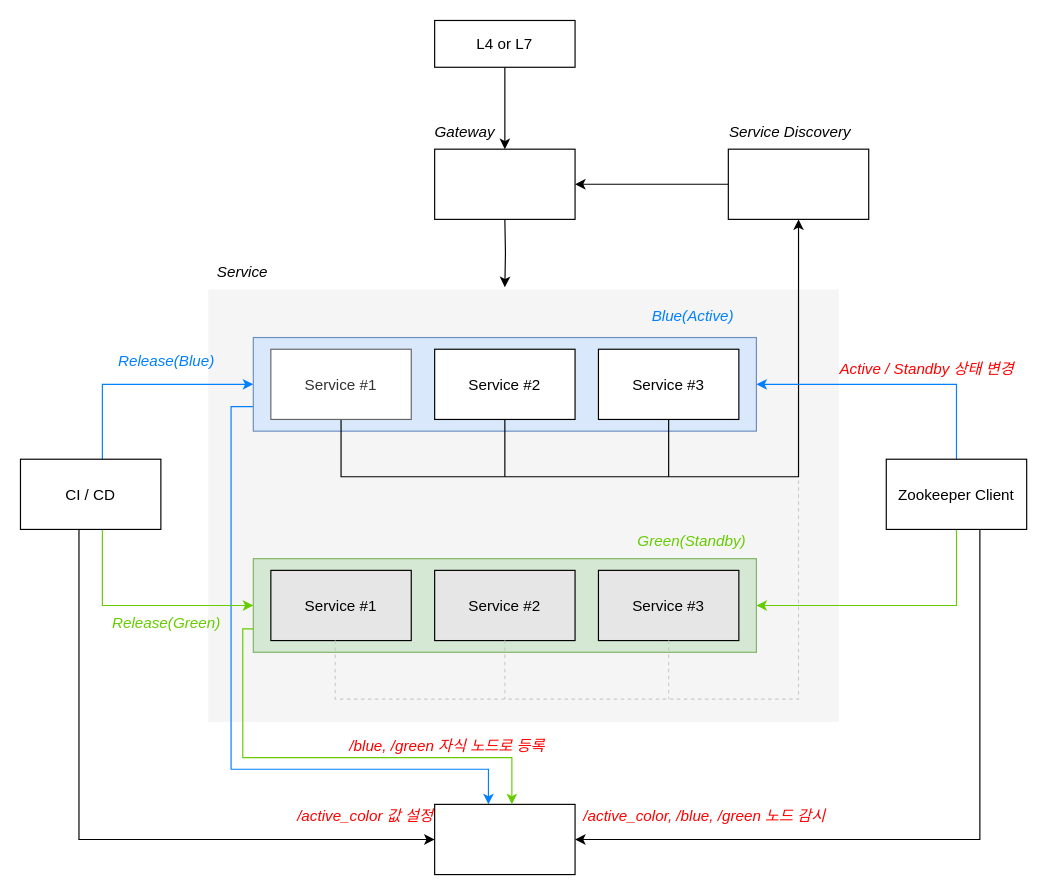
This 1047x895 diagram has some shape labels left out. The centre of each missing label's shape, as x and y in pixels:
Eureka: point (798, 183)
SCG: point (504, 183)
Zookeeper Server: point (504, 839)
